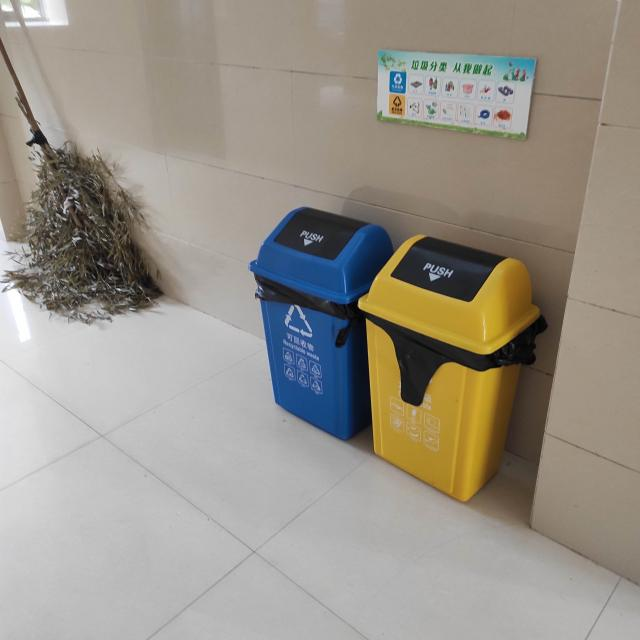ash bin: (357, 234, 545, 504), (248, 206, 395, 439)
